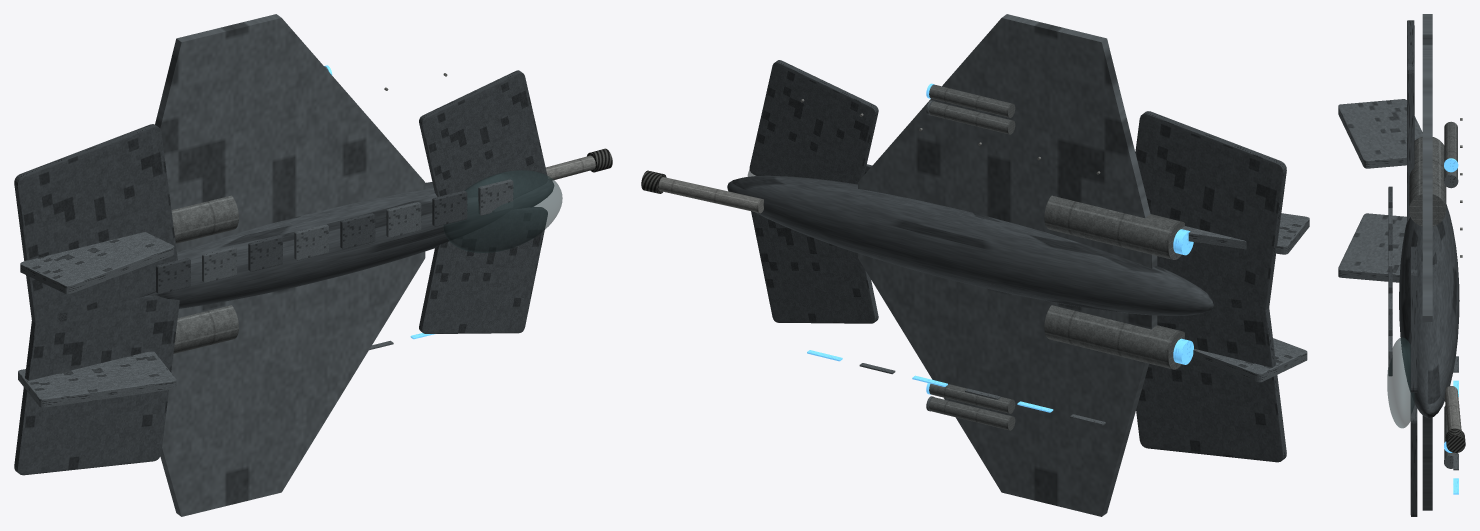
The model's file is s-u25-specter-multirole-aircraft-lod0.glb.
3 renders of one model, left to right at view 1: azimuth 30°, elevation 25°; view 2: azimuth 150°, elevation 25°; view 3: azimuth 270°, elevation 25°, orthographic. The views are drawn at different scales.
Visible parts, largest first — view 1: combat_main_wing, combat_tailplane_-1, combat_tailplane_1, combat_fuselage, canard_-1, canard_1, combat_canopy, combat_fin_-1, combat_fin_1, combat_engine_1, combat_engine_0, airframe_panel_4 (+8 smaller); view 2: combat_main_wing, combat_fuselage, combat_tailplane_1, combat_tailplane_-1, canard_1, canard_-1, combat_engine_1, combat_engine_0, combat_fin_-1, combat_fin_1, combat_gun_barrel_0, combat_1_tube_1 (+3 smaller); view 3: combat_fuselage, combat_main_wing, combat_fin_1, combat_fin_-1, combat_engine_1, combat_canopy, combat_tailplane_1, canard_1, canard_-1, combat_gun_barrel_0, combat_1_tube_2, combat_gun_muzzle_0 (+3 smaller).
Part boxes in pixels (x1,y1,x2,y2): combat_main_wing: (155, 14, 425, 516); combat_tailplane_-1: (14, 295, 179, 475); combat_tailplane_1: (14, 124, 177, 327); combat_fuselage: (146, 179, 553, 308); canard_-1: (419, 207, 547, 333); canard_1: (419, 70, 547, 198); combat_canopy: (443, 170, 562, 252); combat_fin_-1: (18, 351, 176, 407); combat_fin_1: (20, 232, 174, 294); combat_engine_1: (171, 195, 238, 243); combat_engine_0: (173, 305, 238, 353); airframe_panel_4: (340, 213, 375, 249); combat_main_wing: (858, 14, 1157, 516); combat_fuselage: (727, 175, 1213, 315); combat_tailplane_1: (1135, 111, 1286, 313); combat_tailplane_-1: (1136, 297, 1286, 462); canard_1: (749, 60, 878, 184); canard_-1: (751, 211, 878, 323); combat_engine_1: (1044, 195, 1184, 259); combat_engine_0: (1044, 305, 1184, 369); combat_fin_-1: (1192, 338, 1307, 382); combat_fin_1: (1181, 213, 1309, 254); combat_gun_barrel_0: (658, 177, 763, 213); combat_1_tube_1: (929, 101, 1015, 134); combat_fuselage: (1399, 204, 1459, 418); combat_main_wing: (1422, 14, 1432, 510); combat_fin_1: (1338, 99, 1422, 168); combat_fin_-1: (1338, 213, 1406, 282); combat_engine_1: (1409, 137, 1446, 226); combat_canopy: (1387, 337, 1414, 428); combat_tailplane_1: (1407, 20, 1414, 222); canard_1: (1410, 246, 1417, 392); canard_-1: (1410, 395, 1417, 516); combat_gun_barrel_0: (1444, 386, 1461, 431); combat_1_tube_2: (1444, 121, 1457, 162); combat_gun_muzzle_0: (1445, 428, 1465, 452).
Size of what is drawn, in the model's own units: 13.94 by 10.27 by 2.63.
7 materials, 7 textured.
